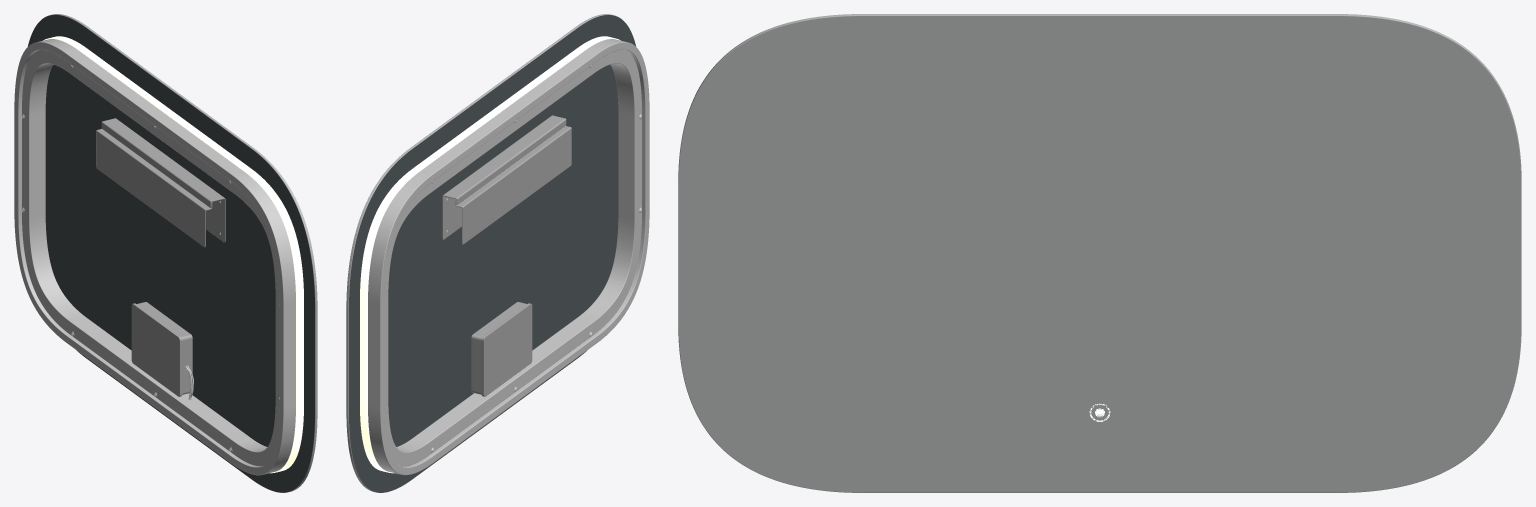
File: mirror.glb
3 renders of one model, left to right at view 1: azimuth 30°, elevation 25°; view 2: azimuth 150°, elevation 25°; view 3: azimuth 270°, elevation 25°, orthographic. The views are drawn at different scales.
Parts seen in each view (by area): view 1: mirror_01_mesh_00; view 2: mirror_01_mesh_00; view 3: mirror_01_mesh_00.
Part boxes in pixels (x1=…): mirror_01_mesh_00: x1=14, y1=14, x2=317, y2=492; mirror_01_mesh_00: x1=346, y1=14, x2=649, y2=492; mirror_01_mesh_00: x1=678, y1=14, x2=1521, y2=492.
Size of the model in its own units: 0.0361 by 0.5 by 0.8.
Materials: 8 (1 with a texture image).
